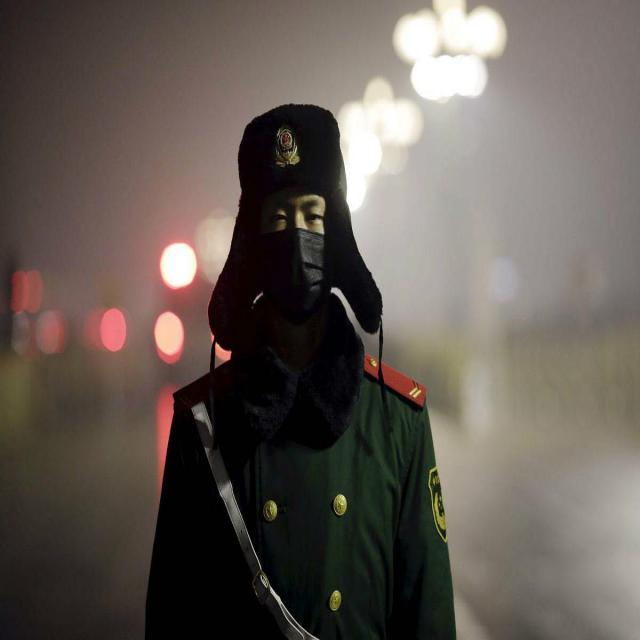mask: (255, 192, 325, 323)
